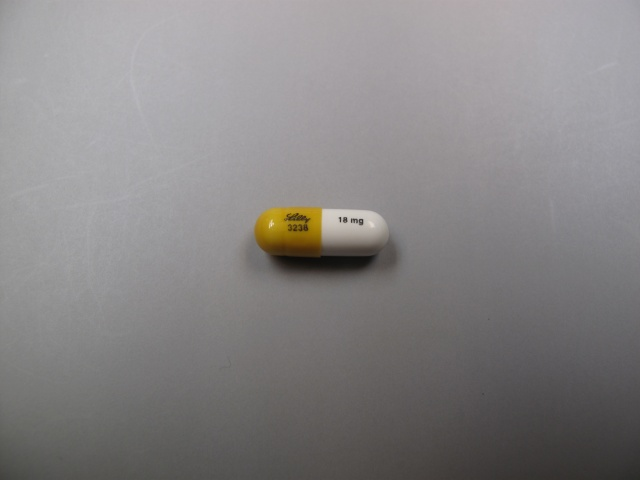capsule: (253, 206, 392, 261)
